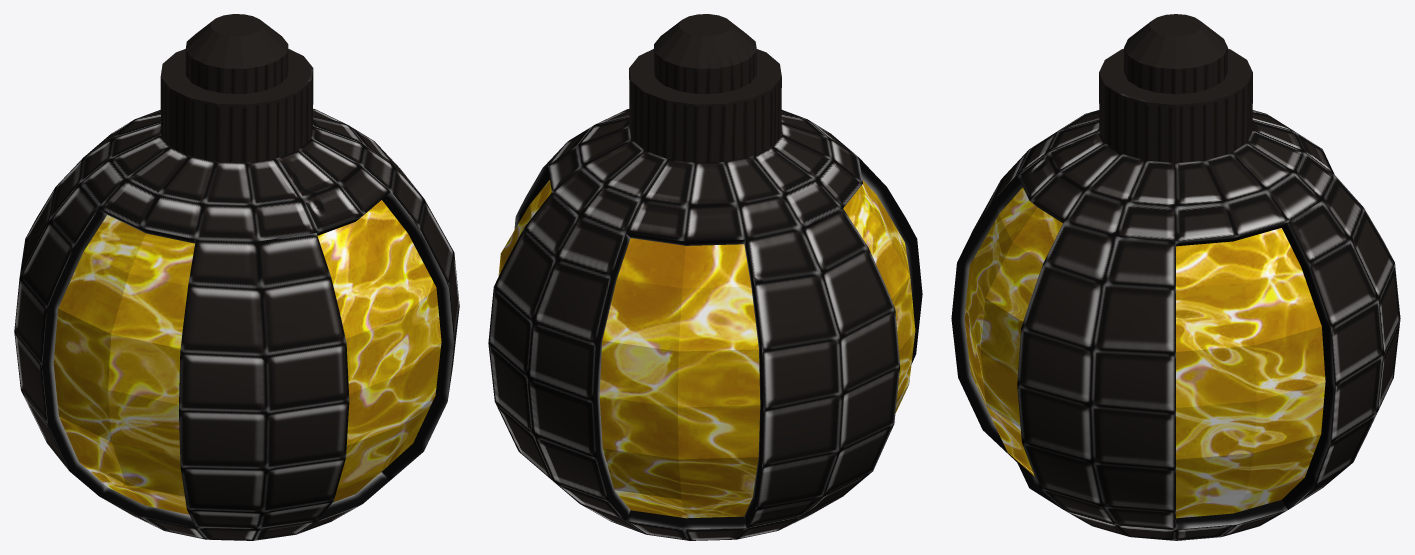
The model's file is Mesh_G_Frag.fbx.
3 views of the same model, side by side, from view 1: azimuth 30°, elevation 25°; view 2: azimuth 150°, elevation 25°; view 3: azimuth 270°, elevation 25° (orthographic).
Parts seen in each view (by area): view 1: Mesh_G_Frag; view 2: Mesh_G_Frag; view 3: Mesh_G_Frag.
Part boxes in pixels (box(x1,y1,x2,y2)): Mesh_G_Frag: box(14, 14, 459, 540); Mesh_G_Frag: box(488, 14, 922, 540); Mesh_G_Frag: box(951, 14, 1400, 540).
Size of the model in its own units: 0.4759 by 0.5766 by 0.4759.
